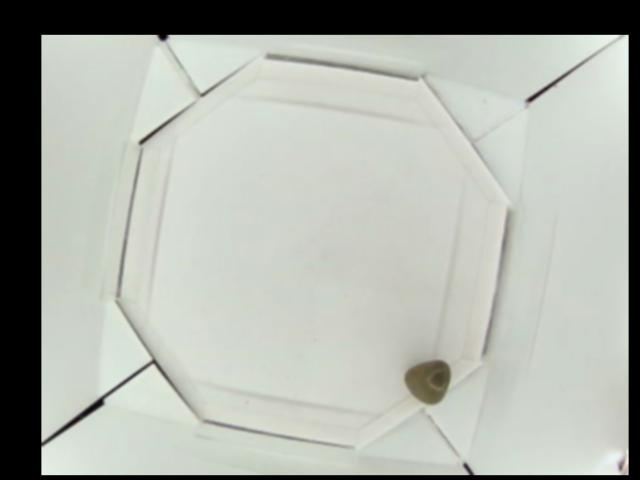Pebble: (408, 358, 449, 403)
